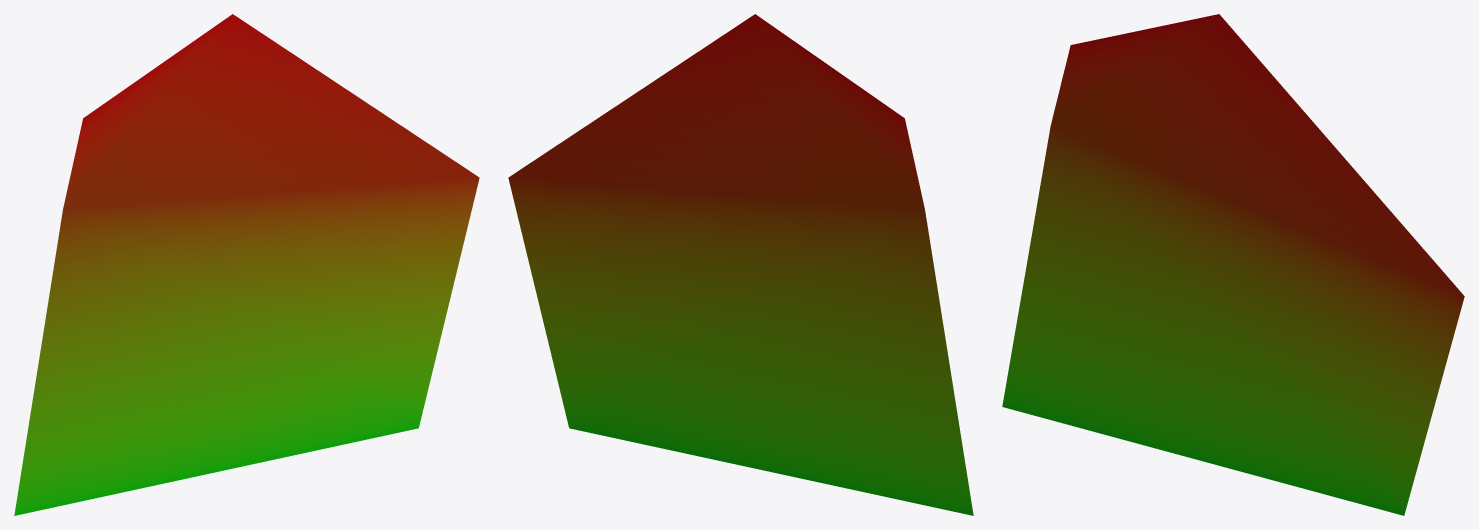
Rendered from Var6_LOD3.fbx.
3 views of the same model, side by side, from view 1: azimuth 30°, elevation 25°; view 2: azimuth 150°, elevation 25°; view 3: azimuth 330°, elevation 25° (orthographic).
Parts seen in each view (by area): view 1: _301b_Var6_LOD3; view 2: _301b_Var6_LOD3; view 3: _301b_Var6_LOD3.
Part boxes in pixels (x1=…): _301b_Var6_LOD3: x1=14, y1=14, x2=479, y2=515; _301b_Var6_LOD3: x1=508, y1=14, x2=973, y2=515; _301b_Var6_LOD3: x1=1002, y1=14, x2=1464, y2=515.
Size of the model in its own units: 26.52 by 25.03 by 1.91e-06.
